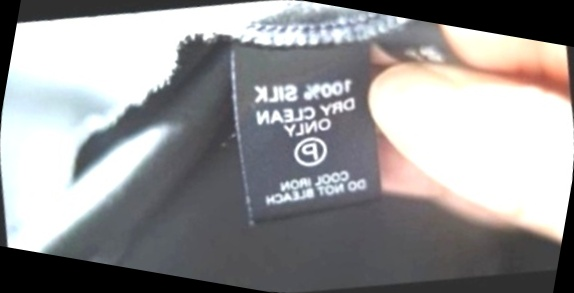dry_clean_any_solvent_except_trichloroethylene: (279, 121, 340, 181)
